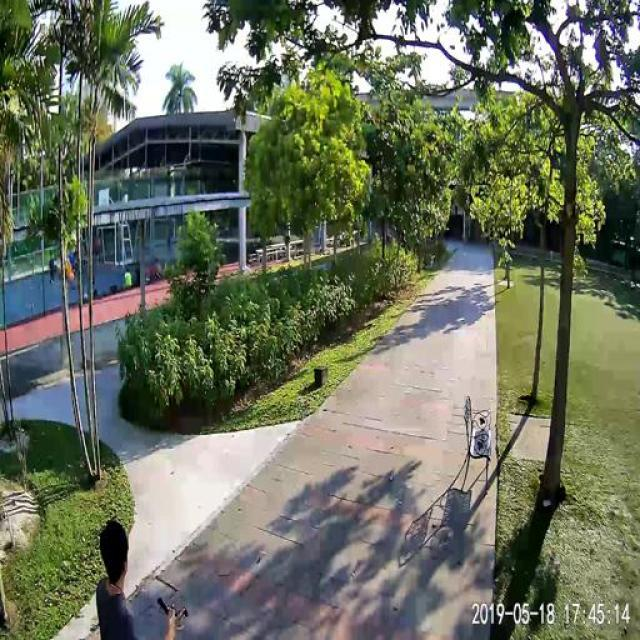Gun: (154, 586, 193, 628)
